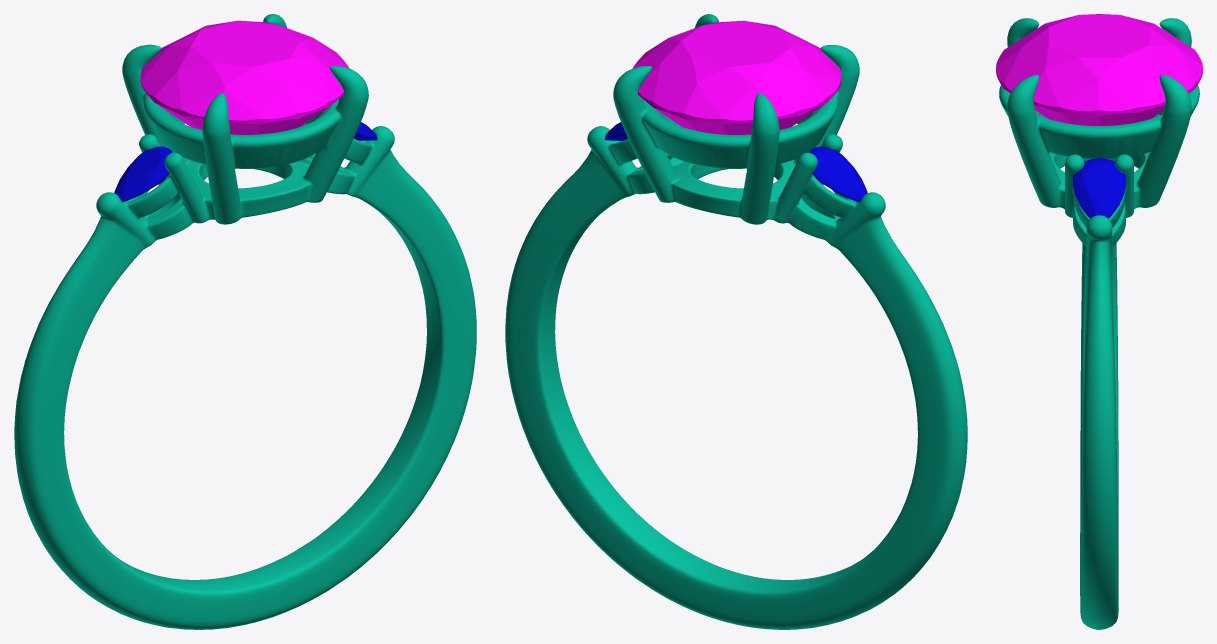
The model's file is BE1D232_RD_200ct_RENDER.glb.
3 renders of one model, left to right at view 1: azimuth 30°, elevation 25°; view 2: azimuth 150°, elevation 25°; view 3: azimuth 270°, elevation 25°, orthographic.
Parts seen in each view (by area): view 1: Metal 01, CS_Diamond_Round, Diamond_Pear_side.001; view 2: Metal 01, CS_Diamond_Round, Diamond_Pear_side.001; view 3: Metal 01, CS_Diamond_Round, Diamond_Pear_side.
Part boxes in pixels (x1,y1,x2,y2): Metal 01: [14, 14, 476, 629]; CS_Diamond_Round: [140, 20, 349, 134]; Diamond_Pear_side.001: [114, 146, 172, 201]; Metal 01: [505, 14, 967, 629]; CS_Diamond_Round: [632, 20, 841, 134]; Diamond_Pear_side.001: [809, 146, 867, 202]; Metal 01: [999, 18, 1199, 629]; CS_Diamond_Round: [996, 14, 1202, 125]; Diamond_Pear_side: [1072, 158, 1126, 218].
Size of the model in its own units: 20.11 by 24.29 by 8.
